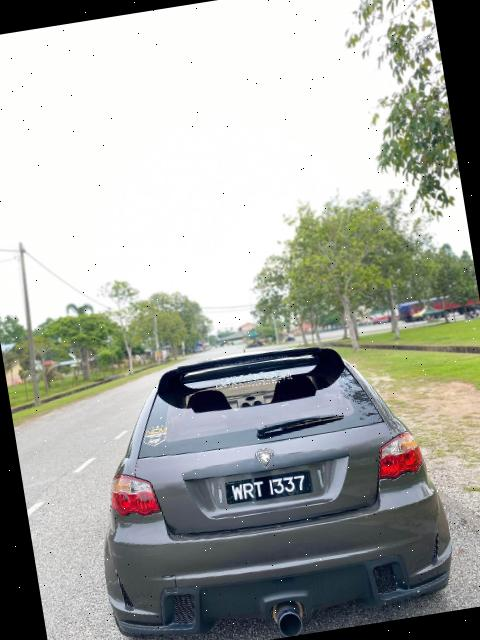License_Plate: (224, 469, 318, 512)
car: (71, 317, 470, 640)
